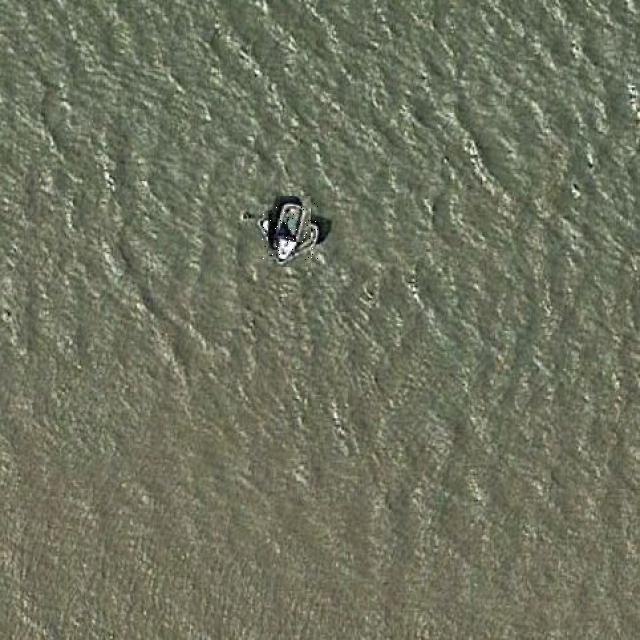boat: (261, 203, 319, 260)
